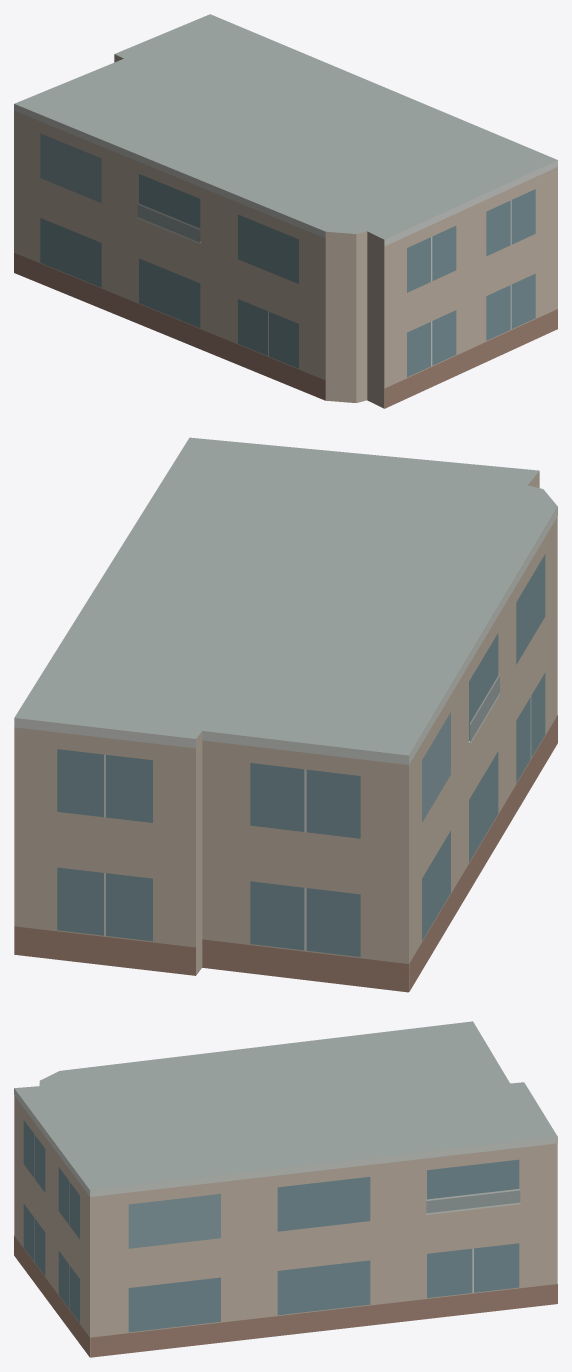
Rendered from survey-upis-32755749.glb.
3 views of the same model, one above another, from view 1: azimuth 30°, elevation 25°; view 2: azimuth 150°, elevation 25°; view 3: azimuth 270°, elevation 25° (orthographic). The views are drawn at different scales.
Parts seen in each view (by area): view 1: survey-upis-32755749.tmp; view 2: survey-upis-32755749.tmp; view 3: survey-upis-32755749.tmp.
Boxes of the visible parts, bbox=[...] form: survey-upis-32755749.tmp: bbox=[14, 14, 557, 408]; survey-upis-32755749.tmp: bbox=[14, 437, 557, 992]; survey-upis-32755749.tmp: bbox=[14, 1021, 557, 1357].
Size of the model in its own units: 13.24 by 6.1 by 17.98.
